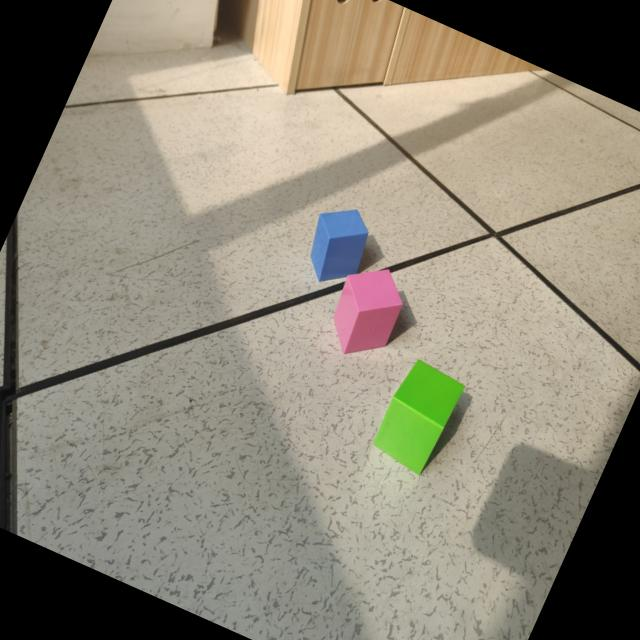blue: (308, 211, 381, 287)
green: (373, 361, 469, 476)
pink: (332, 272, 416, 356)
